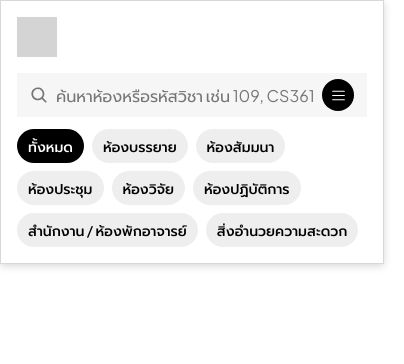
RoomSearchPanel Component › renders matching results when user types a search query
Type "101" into the field with placeholder "ค้นหาห้องหรือรหัสวิชา เช่น 109, CS361" at (185, 95), box x1=56 y1=74 x2=314 y2=116
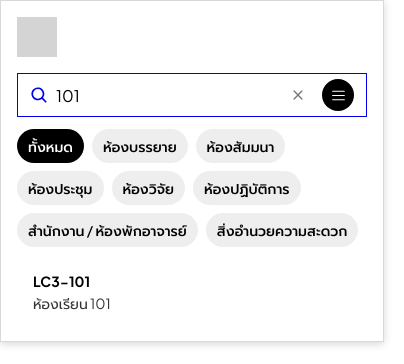
Expected: the list is shown, x1=17 y1=259 x2=367 y2=325
Expected: the button "LC3-101" is shown, x1=33 y1=271 x2=90 y2=291
